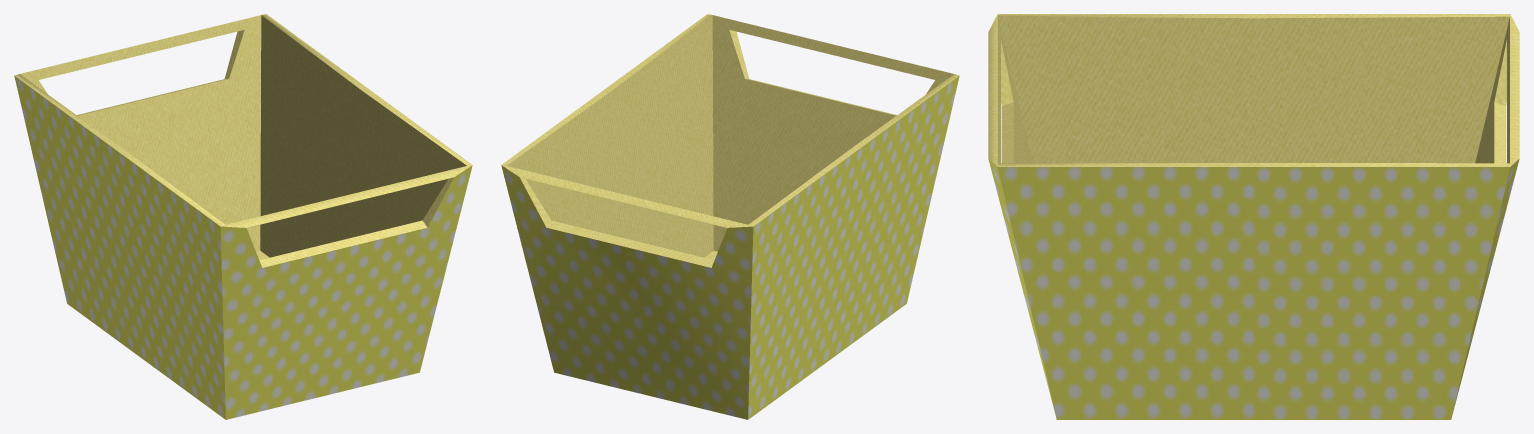
Rendered from Storage_Bin_B.FBX.
3 renders of one model, left to right at view 1: azimuth 30°, elevation 25°; view 2: azimuth 150°, elevation 25°; view 3: azimuth 270°, elevation 25°, orthographic. The views are drawn at different scales.
Visible parts, largest first — view 1: Storage_Bin; view 2: Storage_Bin; view 3: Storage_Bin.
Boxes of the visible parts, x1,y1,x2,y2 form: Storage_Bin: (14,14,472,419); Storage_Bin: (501,14,959,419); Storage_Bin: (988,14,1519,419).
Bounding box in the file's own units: 84.75 × 70.11 × 125.
